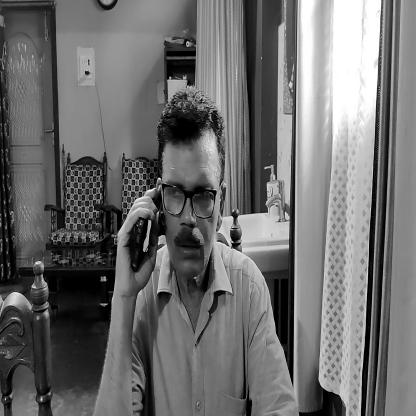Normal: (158, 117, 222, 280)
